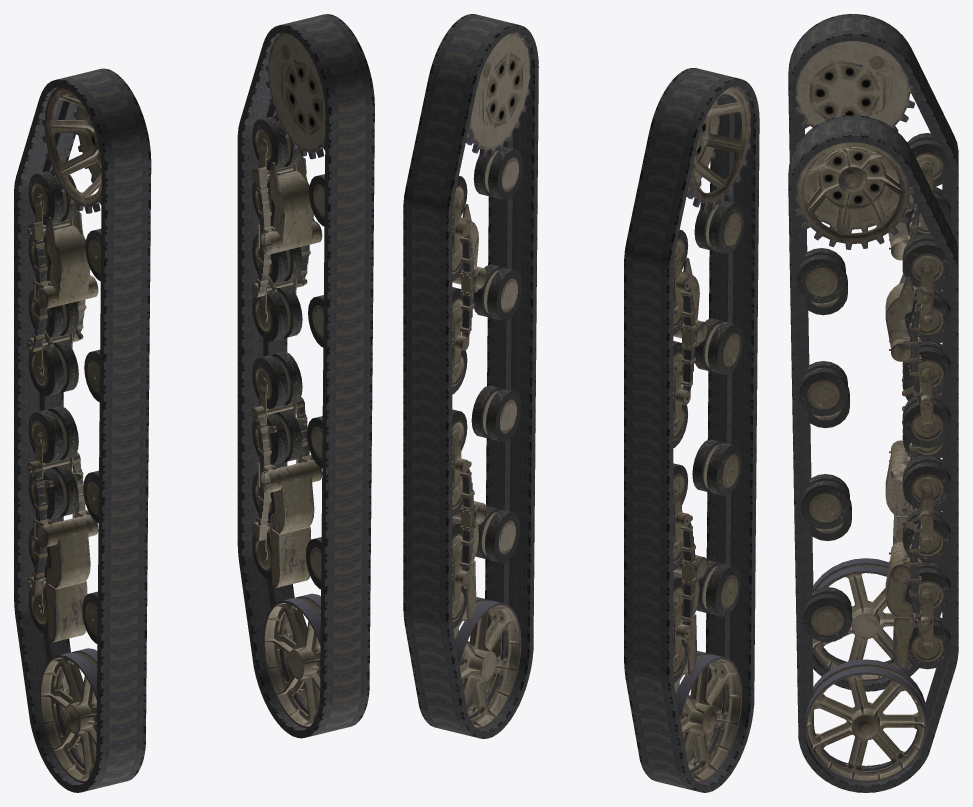
Rendered from Chassis.glb.
3 views of the same model, side by side, from view 1: azimuth 30°, elevation 25°; view 2: azimuth 150°, elevation 25°; view 3: azimuth 270°, elevation 25° (orthographic). The views are drawn at different scales.
Visible parts, largest first — view 1: set_1_group_0, set_0_group_0, set_3_group_0, set_2_group_0; view 2: set_1_group_0, set_0_group_0, set_3_group_0, set_2_group_0; view 3: set_3_group_0, set_0_group_0, set_2_group_0, set_1_group_0.
Boxes of the visible parts, <box> form: set_1_group_0: <box>14,68,151,792</box>; set_0_group_0: <box>237,14,374,738</box>; set_3_group_0: <box>251,32,325,728</box>; set_2_group_0: <box>27,87,101,782</box>; set_1_group_0: <box>624,68,759,792</box>; set_0_group_0: <box>403,14,538,738</box>; set_3_group_0: <box>452,32,530,729</box>; set_2_group_0: <box>673,86,750,783</box>; set_3_group_0: <box>795,142,950,782</box>; set_0_group_0: <box>788,115,958,792</box>; set_2_group_0: <box>795,41,950,681</box>; set_1_group_0: <box>788,14,958,691</box>.
Size of the model in its own units: 1.85 by 4.53 by 1.06.
Materials: 4 (4 with a texture image).
